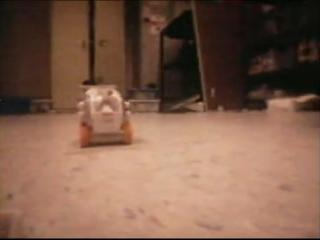cozmo: (76, 83, 134, 148)
